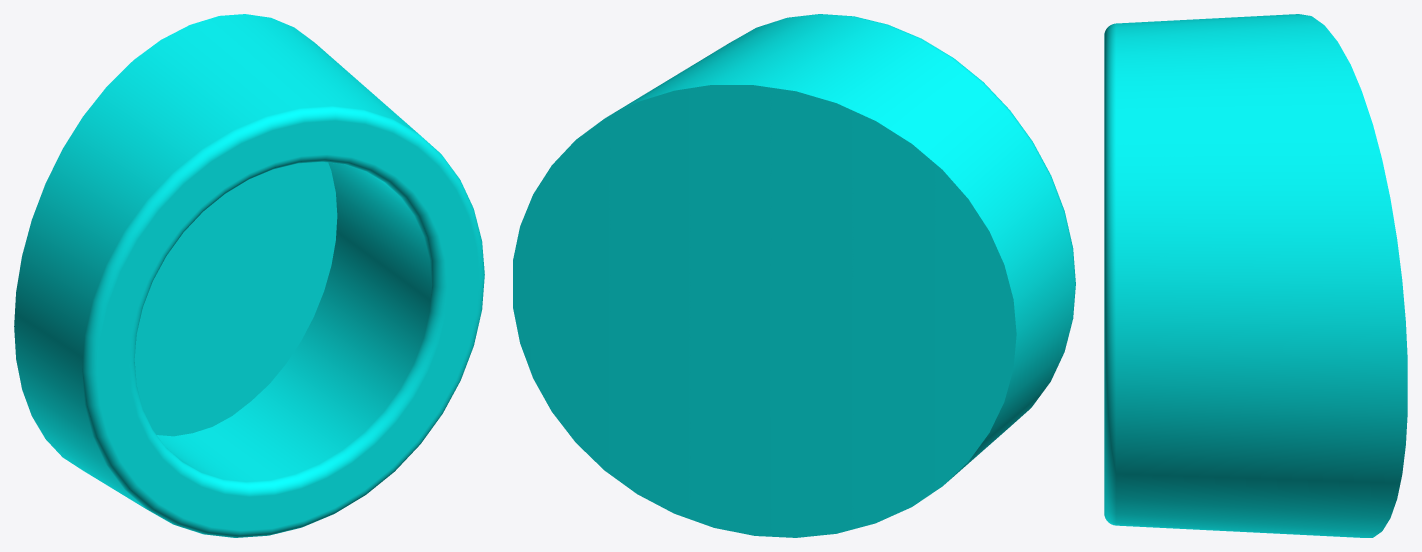
File: buttons.glb
The picture shows the model from 3 angles, left to right: view 1: azimuth 30°, elevation 25°; view 2: azimuth 150°, elevation 25°; view 3: azimuth 270°, elevation 25°; orthographic projection. The views are drawn at different scales.
Parts seen in each view (by area): view 1: Object; view 2: Object; view 3: Object.
Boxes of the visible parts, <box> form: Object: <box>14,14,484,537</box>; Object: <box>513,14,1075,537</box>; Object: <box>1104,14,1407,537</box>.
Size of the model in its own units: 0.3383 by 0.3394 by 0.1963.
